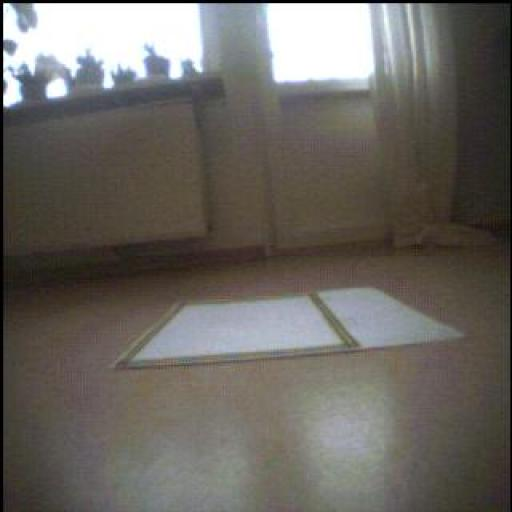Pad: (117, 289, 464, 369), (320, 289, 464, 348)
